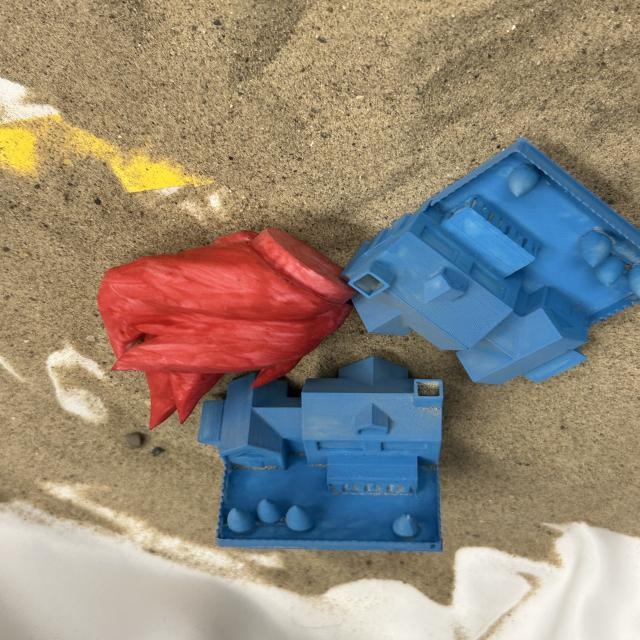fire: (94, 225, 358, 430)
house: (338, 135, 638, 386), (195, 354, 447, 553)
